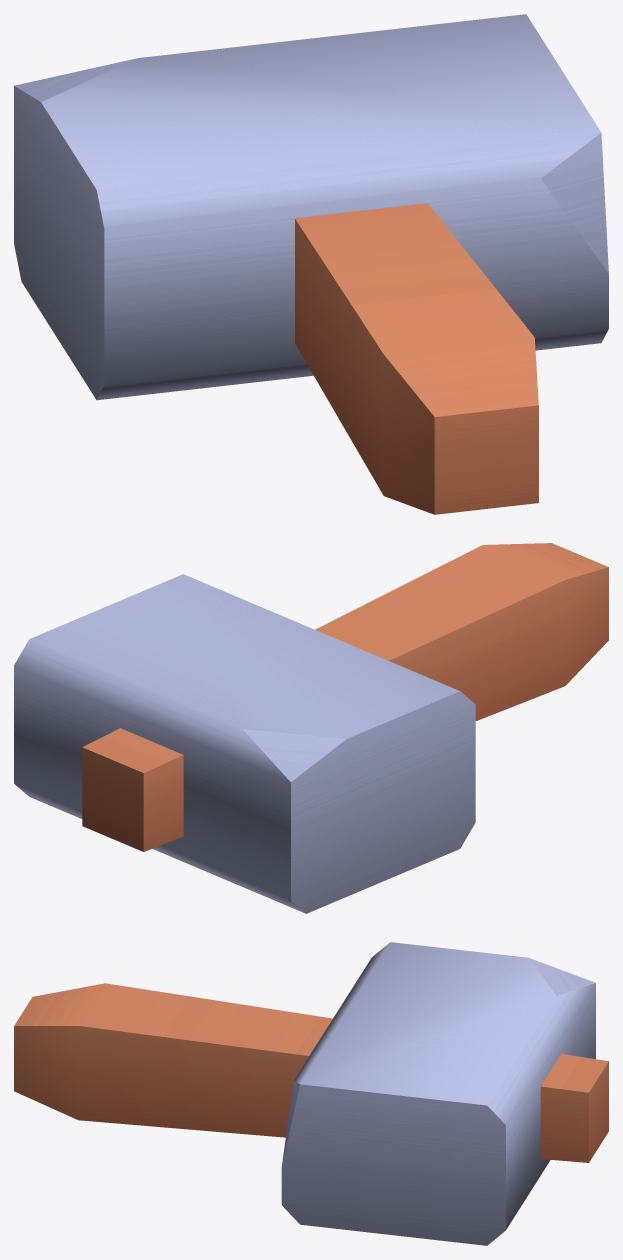
Rendered from hammer_lev3.glb.
3 renders of one model, top to bottom at view 1: azimuth 30°, elevation 25°; view 2: azimuth 150°, elevation 25°; view 3: azimuth 270°, elevation 25°, orthographic. The views are drawn at different scales.
Visible parts, largest first — view 1: hammer_lev3; view 2: hammer_lev3; view 3: hammer_lev3.
Part boxes in pixels (x1=…): hammer_lev3: x1=14, y1=14, x2=608, y2=514; hammer_lev3: x1=14, y1=543, x2=608, y2=913; hammer_lev3: x1=14, y1=942, x2=608, y2=1245.
Size of the model in its own units: 0.8787 by 0.343 by 1.32.
Materials: 1 (1 with a texture image).
